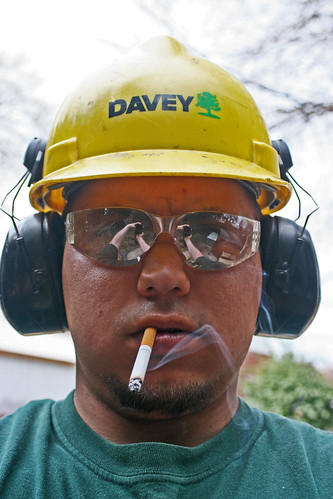person hardhat: (10, 38, 321, 499)
